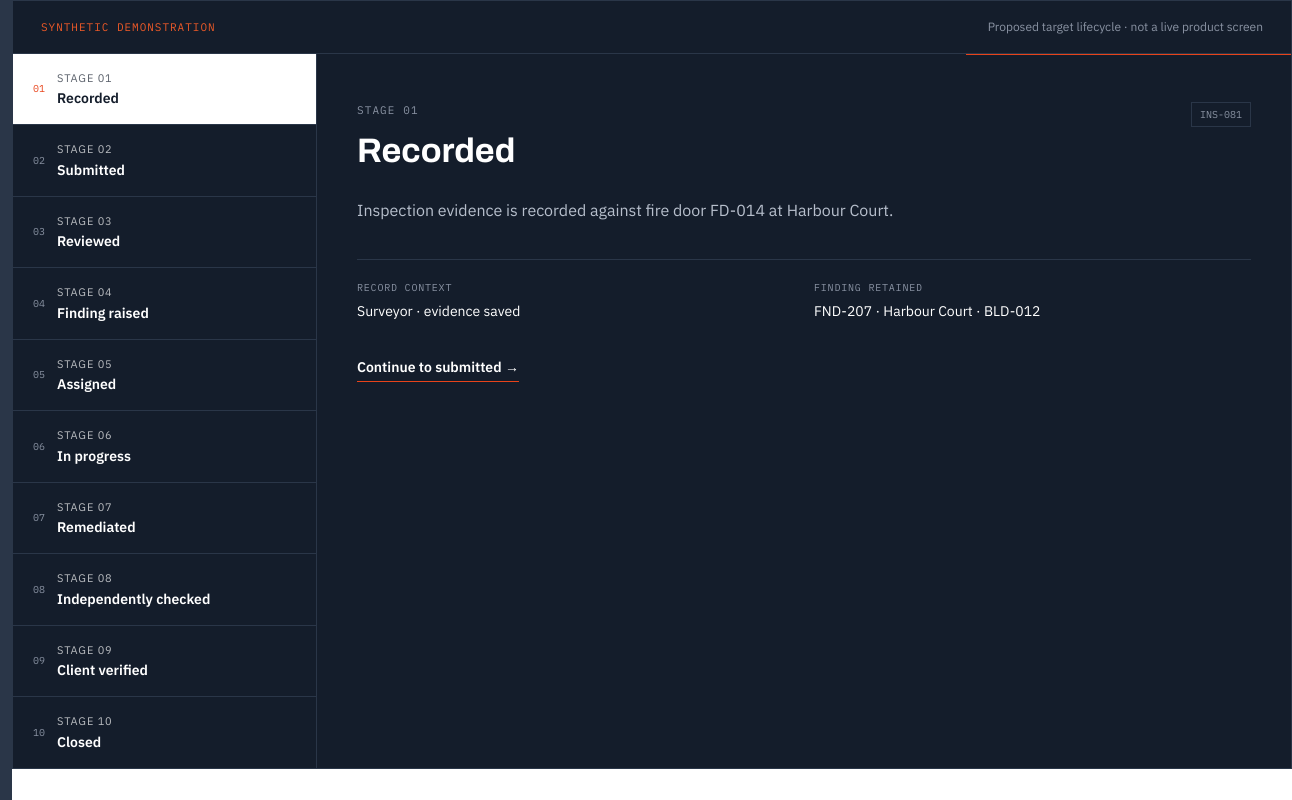
it: RecordNavigator › moves through ten lifecycle stages while retaining the finding and building
What coordinates should you click on to do the following:
click the button "04 Stage 04 Finding raised"
I would click on:
 (85, 292)
Its box is x1=13 y1=268 x2=316 y2=338.
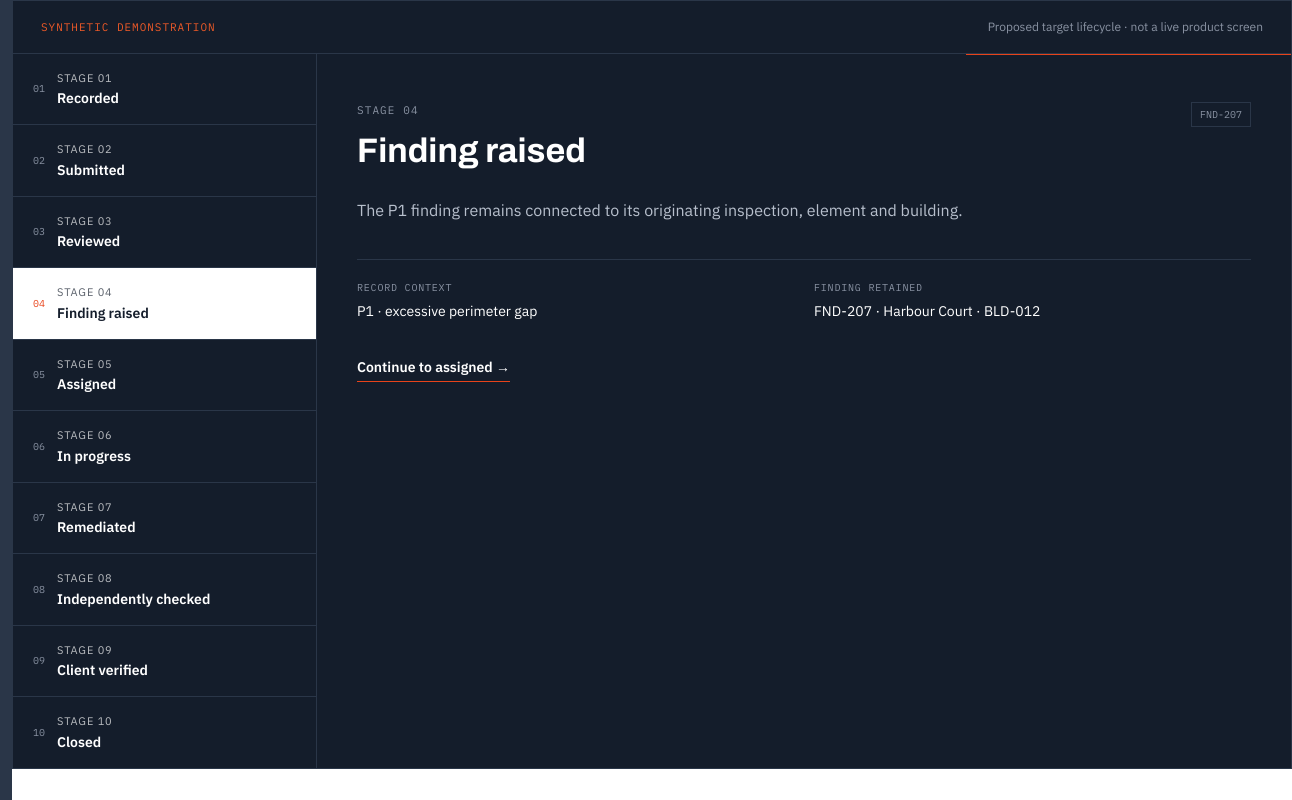
Expected: the text "FND-207 · Harbour Court · BLD-012" is shown, x1=814 y1=302 x2=1040 y2=320
Now the heading "Finding raised" is shown, box x1=357 y1=130 x2=586 y2=172
